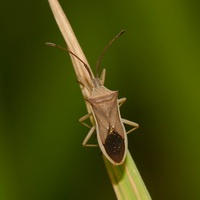insect: (45, 42, 138, 164)
